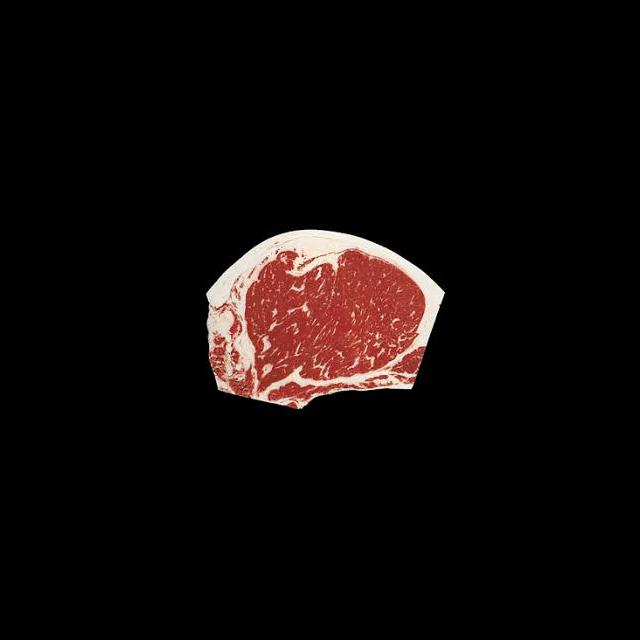beef: (205, 230, 445, 407)
